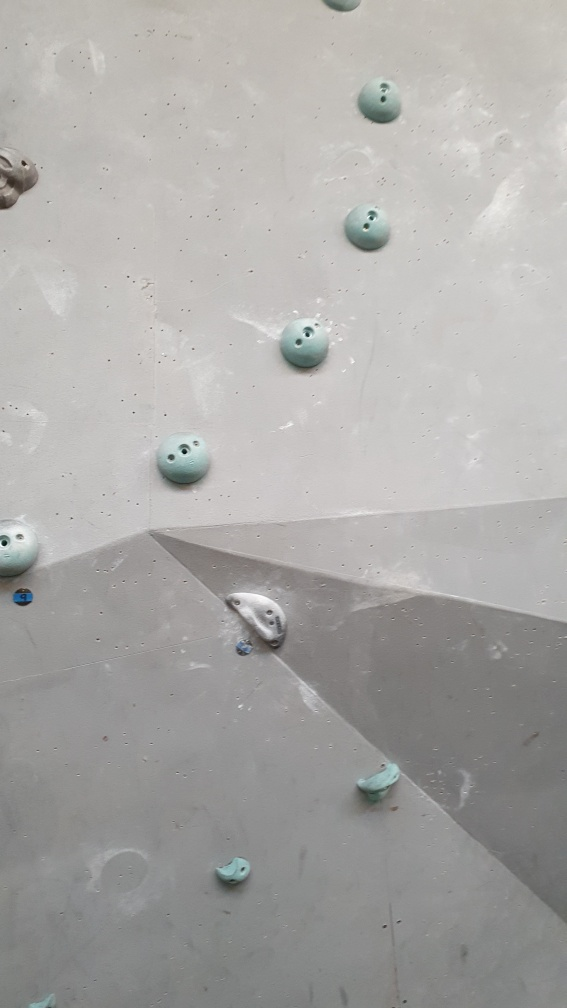Hand Start: (11, 579, 36, 611), (232, 636, 258, 660)
Jug: (352, 759, 409, 809)
Sloper: (152, 418, 221, 493), (275, 310, 336, 378), (338, 199, 405, 257), (354, 75, 410, 127), (1, 518, 45, 581)
